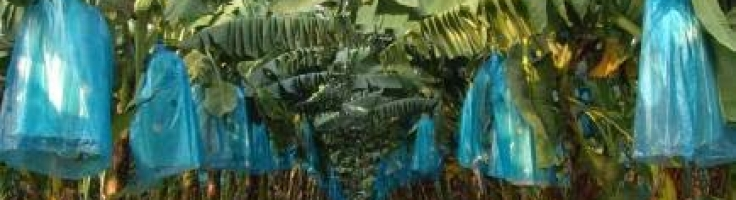plastic_bagwdw: (4, 1, 149, 200), (589, 3, 733, 194), (441, 26, 579, 195), (181, 17, 265, 197), (119, 32, 201, 196), (367, 46, 451, 196), (239, 63, 288, 200)
